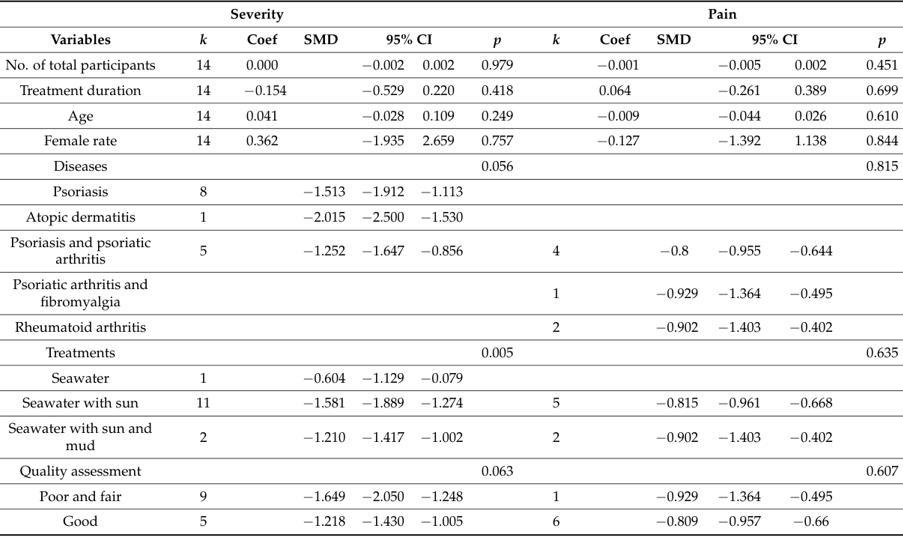table: (4, 4, 897, 539)
table column: (4, 4, 175, 539), (774, 4, 848, 539), (577, 4, 646, 539), (226, 4, 293, 539), (707, 4, 774, 539), (471, 4, 532, 539), (646, 4, 707, 539), (411, 4, 471, 539), (293, 4, 352, 539), (352, 4, 411, 539), (175, 4, 226, 539), (848, 4, 897, 539), (532, 4, 577, 539)
table column header: (4, 4, 897, 51)
table row: (4, 272, 897, 314), (4, 234, 897, 272), (4, 420, 897, 458), (4, 482, 897, 513), (4, 51, 897, 81), (4, 178, 897, 208), (4, 364, 897, 394), (4, 314, 897, 343), (4, 81, 897, 107), (4, 208, 897, 234), (4, 394, 897, 420), (4, 513, 897, 539), (4, 26, 897, 51), (4, 107, 897, 132), (4, 132, 897, 157), (4, 458, 897, 482), (4, 4, 897, 26), (4, 157, 897, 178), (4, 343, 897, 364)
table spanning cell: (4, 4, 532, 26), (532, 4, 897, 26), (707, 26, 848, 51), (352, 26, 471, 51)
